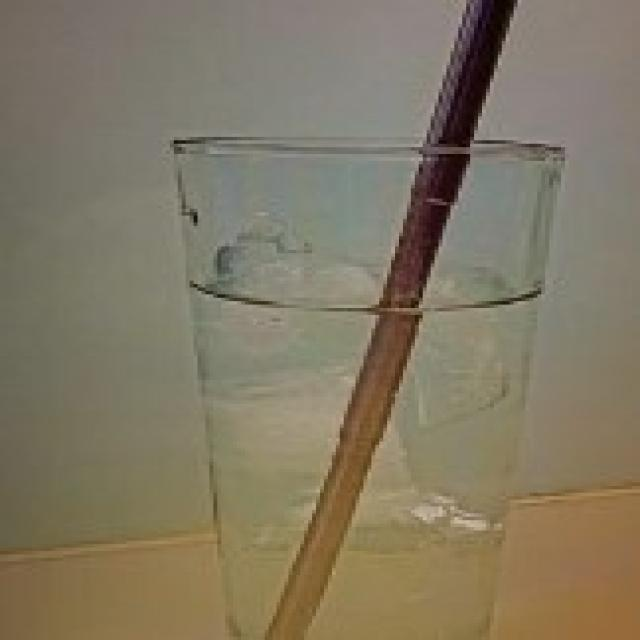electronic: (167, 130, 569, 640)
